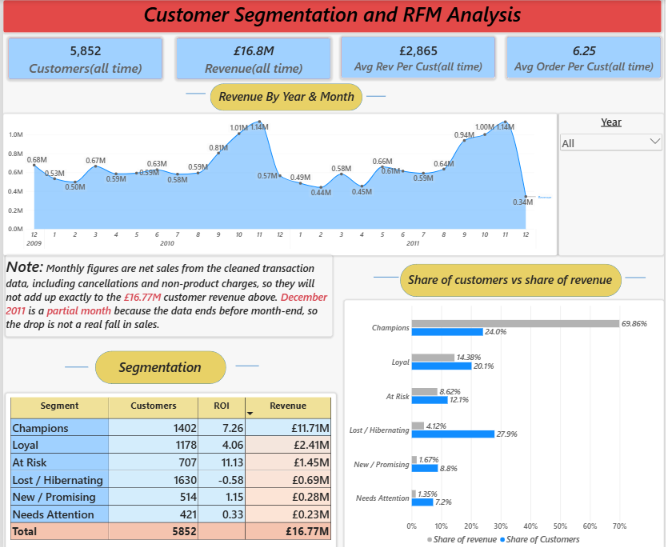

Layout of this report page (visuals, bound fields, positions):
{"tool":"powerbi","page":{"name":"Overview","canvas":[2400,2000],"ordinal":0},"visuals":[{"type":"textbox","box":[0,0,2390.7,118.7],"z":0},{"type":"cardVisual","fields":{"Data":["Sum(Customers.Monetary)"]},"box":[628.4,136.2,562,153],"z":1000},{"type":"clusteredBarChart","fields":{"Category":["Segmentation.Segment"],"Y":["Sum(Customers.Monetary)","CountNonNull(Customers.Customer ID)"]},"box":[1239.3,1089.9,1160.2,909.7],"z":2000},{"type":"lineChart","fields":{"Category":["Calendar.Year","Calendar.Month Number"],"Y":["Sum(Sales.TotalPrice)"]},"box":[0,413.1,2012.8,514.2],"z":3000},{"type":"shape","box":[332.8,1276.2,475.9,120],"z":4000},{"type":"textbox","box":[345.9,1302.6,443.9,65.9],"z":5000},{"type":"shape","box":[222.9,1311.4,85,47],"z":6000},{"type":"shape","box":[842.5,1307,85,47],"z":7000},{"type":"shape","box":[1441.2,959.4,805,120],"z":8000},{"type":"shape","box":[749.4,302.5,553.5,99],"z":9000},{"type":"textbox","box":[1445.6,985.8,799.8,74.7],"z":10000},{"type":"textbox","box":[751.4,321.3,553.7,65.9],"z":11000},{"type":"shape","box":[1344.5,985.8,92.3,43.9],"z":12000},{"type":"shape","box":[2259.7,982.9,75,47.5],"z":13000},{"type":"shape","box":[1319.8,316,71.2,65.9],"z":14000},{"type":"shape","box":[665,312.7,71.2,55.4],"z":15000},{"type":"slicer","title":"Year","fields":{"Values":["Calendar.Year"]},"box":[2017.2,413.1,382.3,514.2],"z":16000},{"type":"tableEx","fields":{"Values":["Segmentation.Segment","Segmentation.Customers","Segmentation.ROI","Sum(Sales.TotalPrice)"]},"box":[8.8,1428.3,1199.8,571.3],"z":17000},{"type":"cardVisual","fields":{"Data":["Count(Customers.Customer ID)"]},"box":[17.6,136.2,562,153],"z":18000},{"type":"cardVisual","fields":{"Data":["Avg(Customers.Monetary)"]},"box":[1224.7,131.8,562,153.8],"z":19000},{"type":"cardVisual","fields":{"Data":["Avg(Customers.Frequency)"]},"box":[1828.2,131.8,562.5,153.8],"z":20000},{"type":"textbox","box":[8.8,927.3,1186.6,294.4],"z":21000}]}

Visuals, with their boxes in screenshot pixels (x1, y1, x2, y2), scaled from the page's 2400x2000 canvas onto the 666x547 screenshot:
textbox: bbox=[0, 0, 663, 32]
cardVisual - Sum(Customers.Monetary): bbox=[174, 37, 330, 79]
clusteredBarChart - Segmentation.Segment x Sum(Customers.Monetary): bbox=[344, 298, 665, 546]
lineChart - Calendar.Year x Calendar.Month Number: bbox=[0, 113, 559, 254]
shape: bbox=[92, 349, 224, 382]
textbox: bbox=[96, 356, 219, 374]
shape: bbox=[62, 359, 85, 372]
shape: bbox=[234, 357, 257, 370]
shape: bbox=[400, 262, 623, 295]
shape: bbox=[208, 83, 362, 110]
textbox: bbox=[401, 270, 623, 290]
textbox: bbox=[209, 88, 362, 106]
shape: bbox=[373, 270, 399, 282]
shape: bbox=[627, 269, 648, 282]
shape: bbox=[366, 86, 386, 104]
shape: bbox=[185, 86, 204, 101]
"Year" slicer: bbox=[560, 113, 665, 254]
tableEx - Segmentation.Segment x Segmentation.Customers: bbox=[2, 391, 335, 546]
cardVisual - Count(Customers.Customer ID): bbox=[5, 37, 161, 79]
cardVisual - Avg(Customers.Monetary): bbox=[340, 36, 496, 78]
cardVisual - Avg(Customers.Frequency): bbox=[507, 36, 663, 78]
textbox: bbox=[2, 254, 332, 334]
